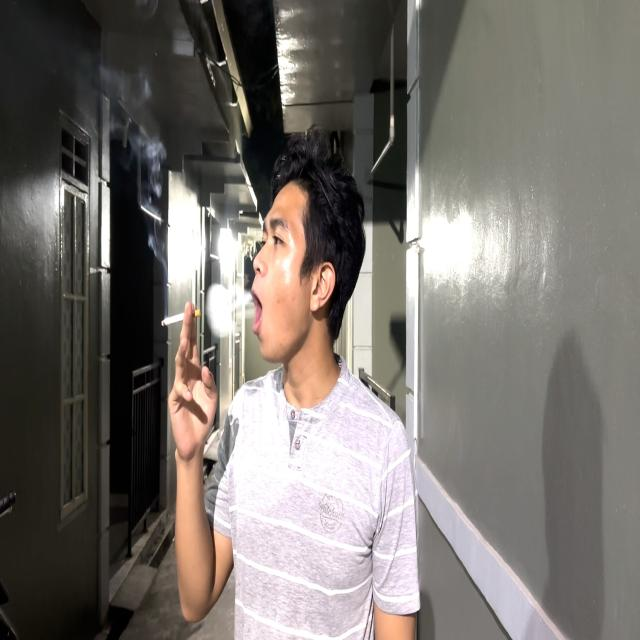cigarette: (154, 298, 206, 337)
smoking: (143, 121, 369, 632)
